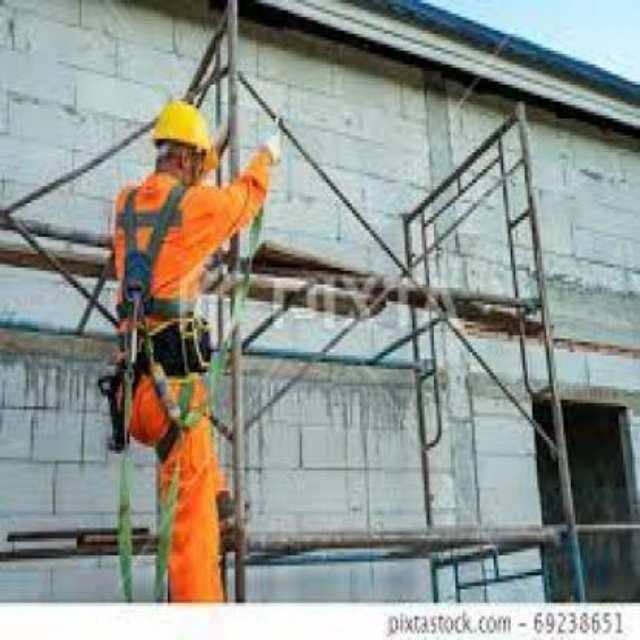Arnes_seguridad: (115, 178, 218, 460)
